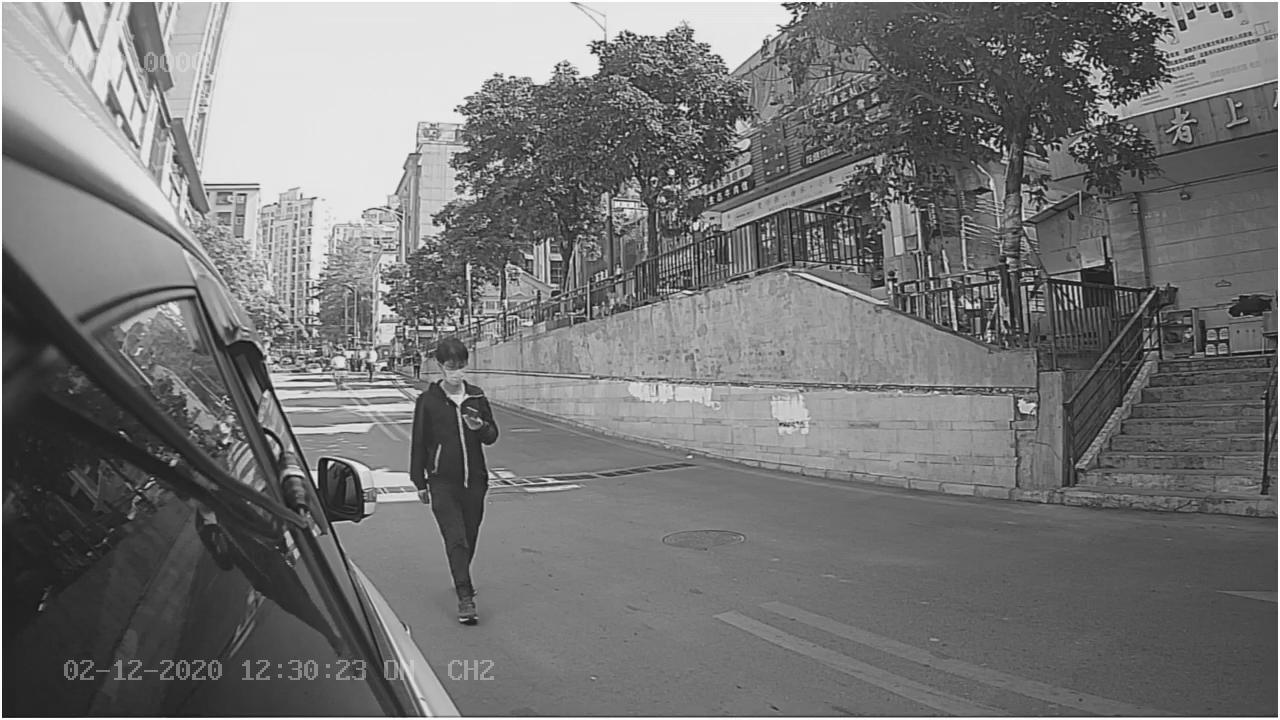person: (404, 334, 505, 625)
